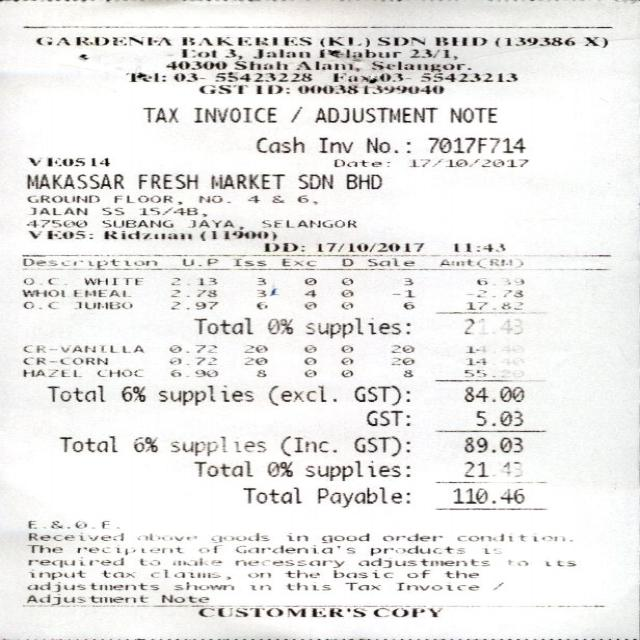text: (304, 316, 408, 337), (304, 460, 408, 480), (157, 384, 250, 405), (313, 106, 434, 122), (168, 435, 263, 455), (315, 486, 408, 506), (198, 606, 364, 616), (425, 137, 523, 152), (267, 384, 334, 405), (20, 258, 155, 268), (24, 174, 120, 188), (25, 593, 146, 604), (191, 106, 273, 122), (26, 581, 157, 591), (358, 556, 488, 566), (351, 434, 407, 456), (278, 434, 334, 456), (34, 35, 170, 44), (351, 384, 407, 405), (180, 36, 310, 45), (370, 60, 463, 72), (316, 48, 399, 61), (316, 242, 423, 252), (453, 488, 526, 502), (210, 174, 282, 188), (214, 71, 311, 81), (21, 344, 142, 352), (406, 158, 526, 166), (25, 556, 121, 566), (233, 545, 352, 553), (368, 544, 463, 554), (463, 317, 522, 333), (463, 460, 522, 476), (192, 316, 250, 332), (45, 384, 103, 400), (192, 460, 250, 476), (57, 435, 114, 451), (494, 36, 576, 47), (463, 386, 522, 401), (462, 436, 520, 451), (240, 487, 298, 502), (418, 72, 514, 81), (234, 559, 341, 567), (75, 546, 180, 554), (136, 174, 195, 188), (362, 84, 444, 94), (455, 533, 569, 540), (330, 72, 402, 83), (436, 258, 522, 267), (254, 136, 302, 152), (198, 230, 274, 240), (27, 532, 122, 540), (259, 219, 353, 227), (396, 581, 477, 590), (148, 569, 228, 578), (21, 289, 122, 296), (102, 230, 190, 238), (111, 194, 180, 204), (450, 107, 495, 122), (25, 520, 106, 528), (364, 410, 407, 425), (474, 411, 520, 425), (294, 60, 357, 70), (296, 84, 358, 94), (138, 207, 205, 216), (362, 36, 422, 46), (21, 356, 106, 363), (466, 301, 520, 312), (25, 194, 98, 202), (250, 48, 308, 58), (165, 60, 227, 69), (101, 219, 170, 227), (451, 242, 505, 252), (29, 569, 83, 579), (372, 608, 439, 616), (81, 276, 140, 285), (365, 137, 398, 153), (209, 532, 266, 541), (26, 157, 82, 166), (26, 230, 89, 238), (317, 137, 350, 152), (406, 48, 455, 58), (142, 107, 177, 121), (295, 174, 330, 188), (232, 60, 286, 69), (24, 218, 84, 226), (346, 174, 380, 188), (320, 532, 367, 542), (135, 532, 193, 540), (382, 532, 440, 540), (172, 581, 230, 589), (332, 569, 389, 577), (266, 317, 292, 334), (186, 220, 241, 228), (433, 36, 481, 45), (332, 158, 386, 166), (21, 368, 74, 376), (168, 276, 215, 285), (167, 355, 214, 364), (317, 36, 358, 46), (263, 242, 303, 252), (364, 258, 414, 266), (265, 460, 290, 476), (197, 85, 246, 93), (29, 207, 84, 214), (172, 557, 220, 565), (125, 70, 163, 80), (76, 301, 130, 308), (168, 288, 215, 296), (167, 344, 214, 352), (159, 594, 206, 602), (131, 436, 156, 451), (169, 300, 215, 308), (95, 368, 140, 376), (120, 386, 144, 400), (21, 276, 57, 285), (169, 369, 215, 376), (284, 582, 328, 589), (255, 84, 288, 93), (474, 278, 522, 284), (23, 301, 59, 309), (181, 258, 216, 266), (474, 290, 520, 296), (181, 48, 215, 56), (26, 544, 60, 552), (232, 258, 265, 266), (284, 569, 317, 577), (172, 72, 204, 80), (282, 258, 314, 266), (101, 569, 132, 577), (198, 194, 228, 202), (442, 570, 476, 577), (344, 582, 377, 589), (583, 36, 606, 46), (462, 368, 487, 377), (243, 355, 265, 364), (389, 344, 412, 352), (404, 569, 427, 577), (296, 194, 316, 203), (390, 288, 412, 296), (243, 344, 265, 352), (464, 345, 486, 353), (198, 544, 220, 552), (88, 157, 107, 166), (223, 48, 240, 58), (389, 356, 412, 363), (100, 207, 122, 214), (289, 106, 299, 121), (544, 560, 574, 565), (138, 557, 158, 564), (482, 547, 501, 554), (506, 560, 528, 566), (301, 276, 315, 285), (284, 534, 304, 540), (301, 300, 315, 308), (301, 344, 315, 352), (467, 357, 483, 364), (247, 584, 269, 589), (270, 194, 283, 202), (340, 258, 353, 266), (339, 276, 350, 285), (301, 356, 315, 363), (301, 369, 315, 376), (245, 194, 257, 202), (302, 288, 314, 296), (246, 572, 269, 576), (339, 288, 350, 296), (339, 300, 350, 308), (339, 344, 350, 352), (339, 368, 350, 376), (254, 288, 264, 296), (339, 356, 350, 363), (401, 302, 413, 308), (401, 368, 410, 376), (254, 302, 265, 308), (255, 276, 264, 283), (401, 277, 410, 284), (254, 369, 263, 376)
